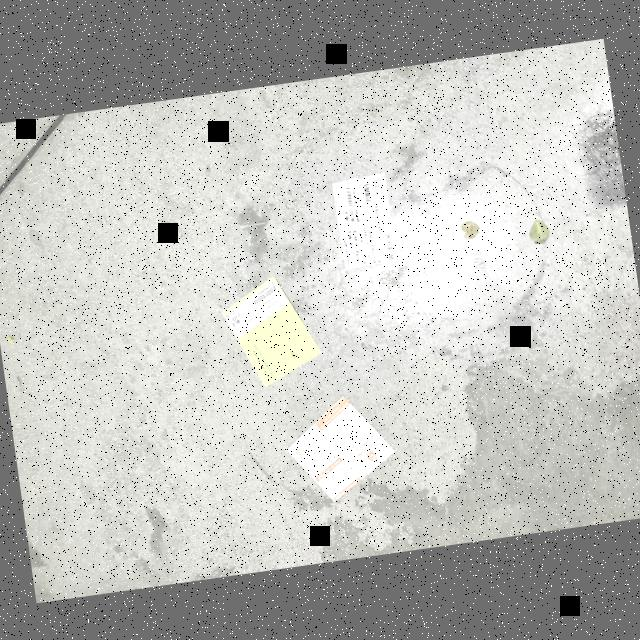scrap_paper: (274, 380, 404, 520), (216, 262, 332, 394), (322, 165, 414, 284)
